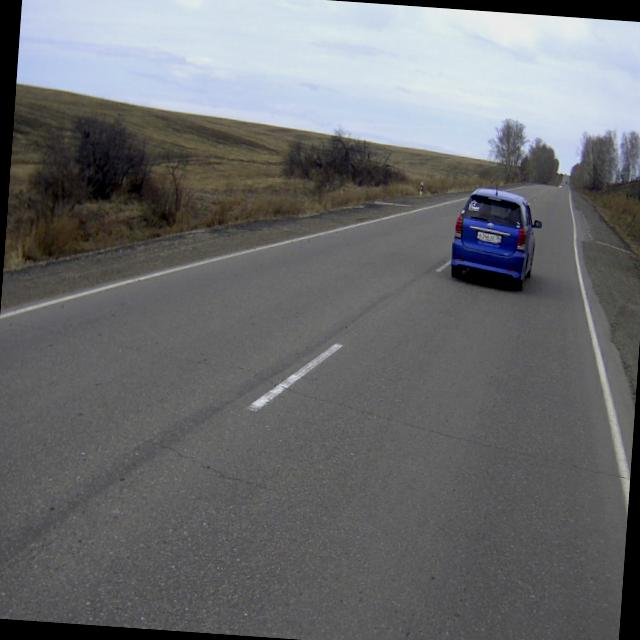road: (0, 184, 634, 640)
